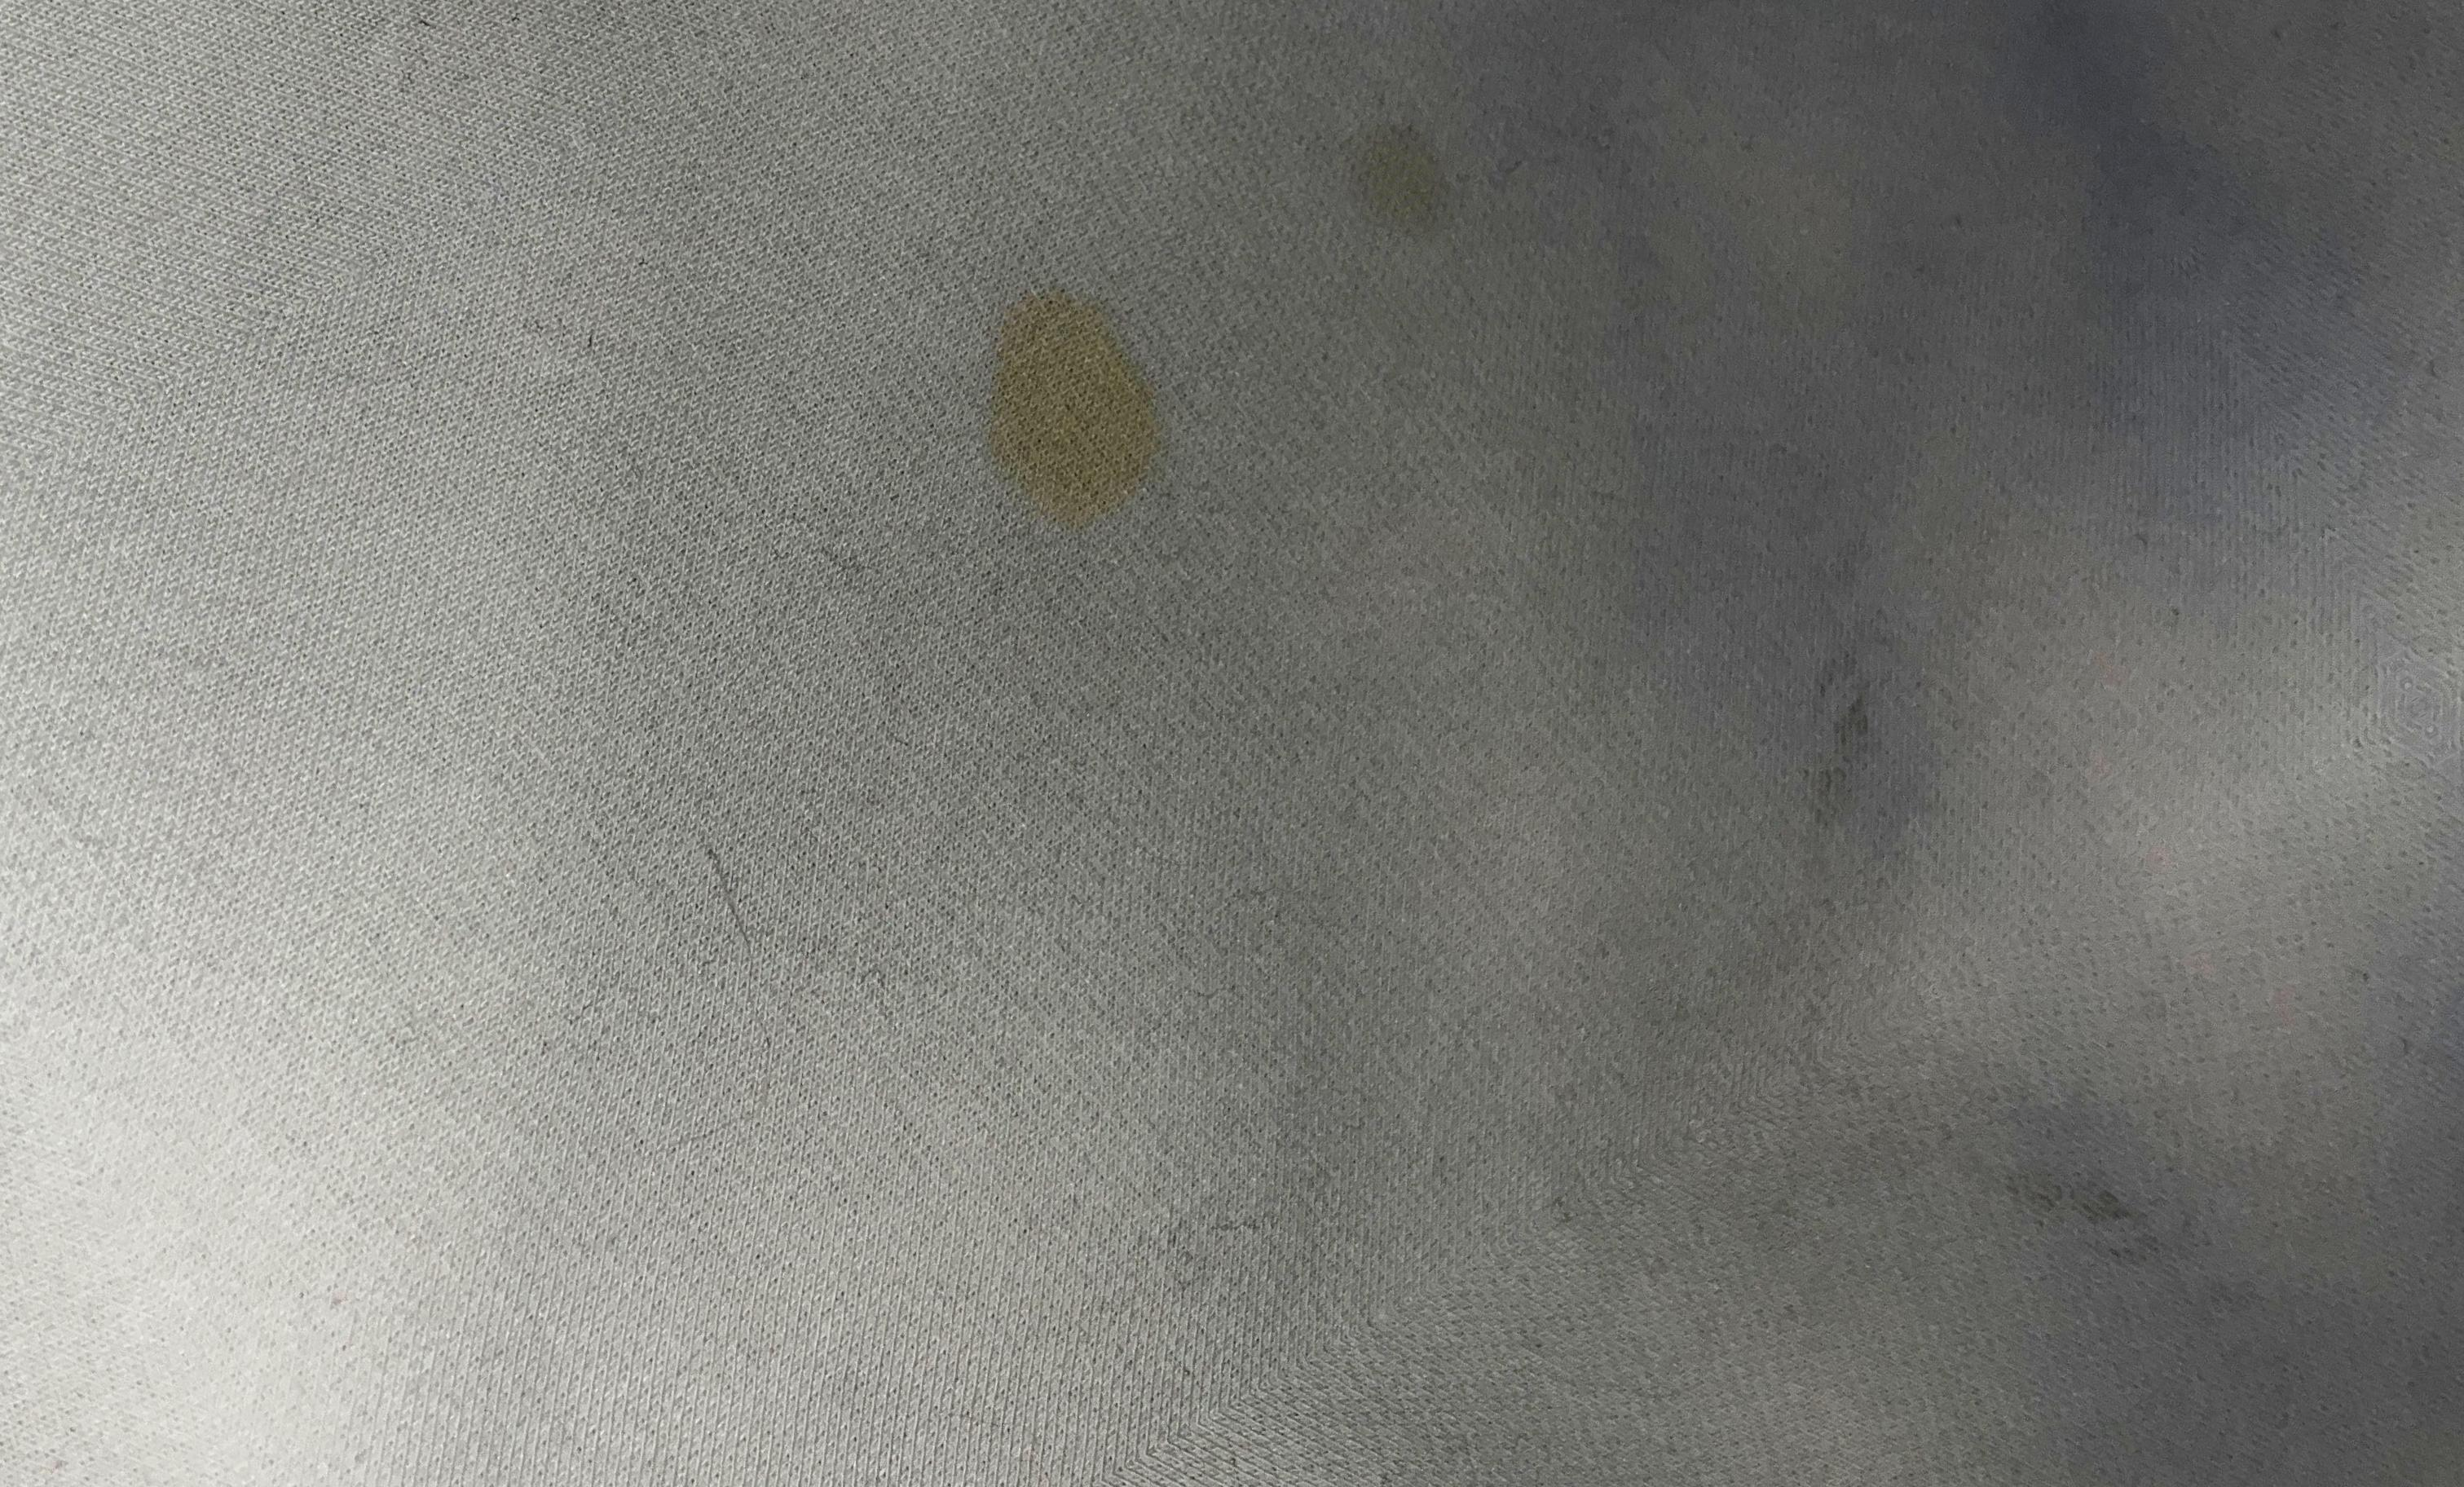stain: (957, 252, 1190, 554), (1339, 104, 1478, 252)
